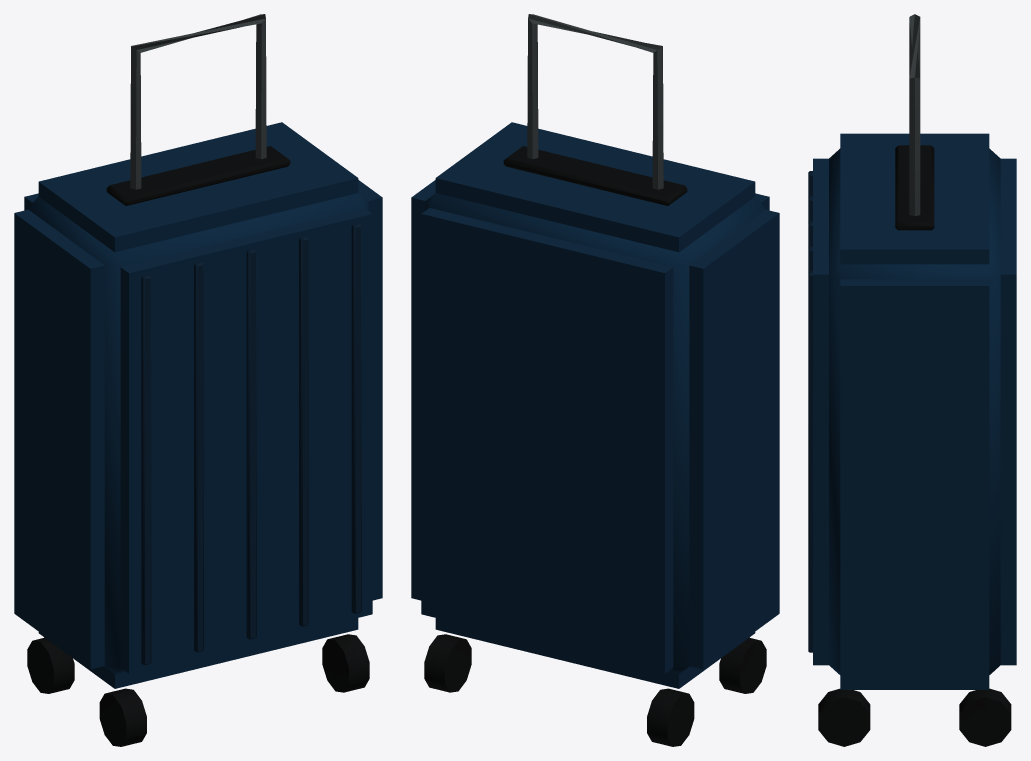
File: ap-suitcase-a.glb
The picture shows the model from 3 angles, left to right: view 1: azimuth 30°, elevation 25°; view 2: azimuth 150°, elevation 25°; view 3: azimuth 270°, elevation 25°; orthographic projection. The views are drawn at different scales.
Parts seen in each view (by area): view 1: shell__plastic, handle__chrome, wheels__rubber; view 2: shell__plastic, handle__chrome, wheels__rubber; view 3: shell__plastic, wheels__rubber, handle__chrome.
Boxes of the visible parts, x1,y1,x2,y2 form: shell__plastic: [14, 122, 382, 688]; handle__chrome: [106, 14, 290, 205]; wheels__rubber: [27, 634, 369, 746]; shell__plastic: [411, 122, 779, 688]; handle__chrome: [503, 14, 687, 205]; wheels__rubber: [424, 634, 766, 746]; shell__plastic: [808, 133, 1016, 689]; wheels__rubber: [818, 688, 1011, 746]; handle__chrome: [895, 14, 934, 230].
Bounding box in the file's own units: 0.42 × 0.9054 × 0.266.
